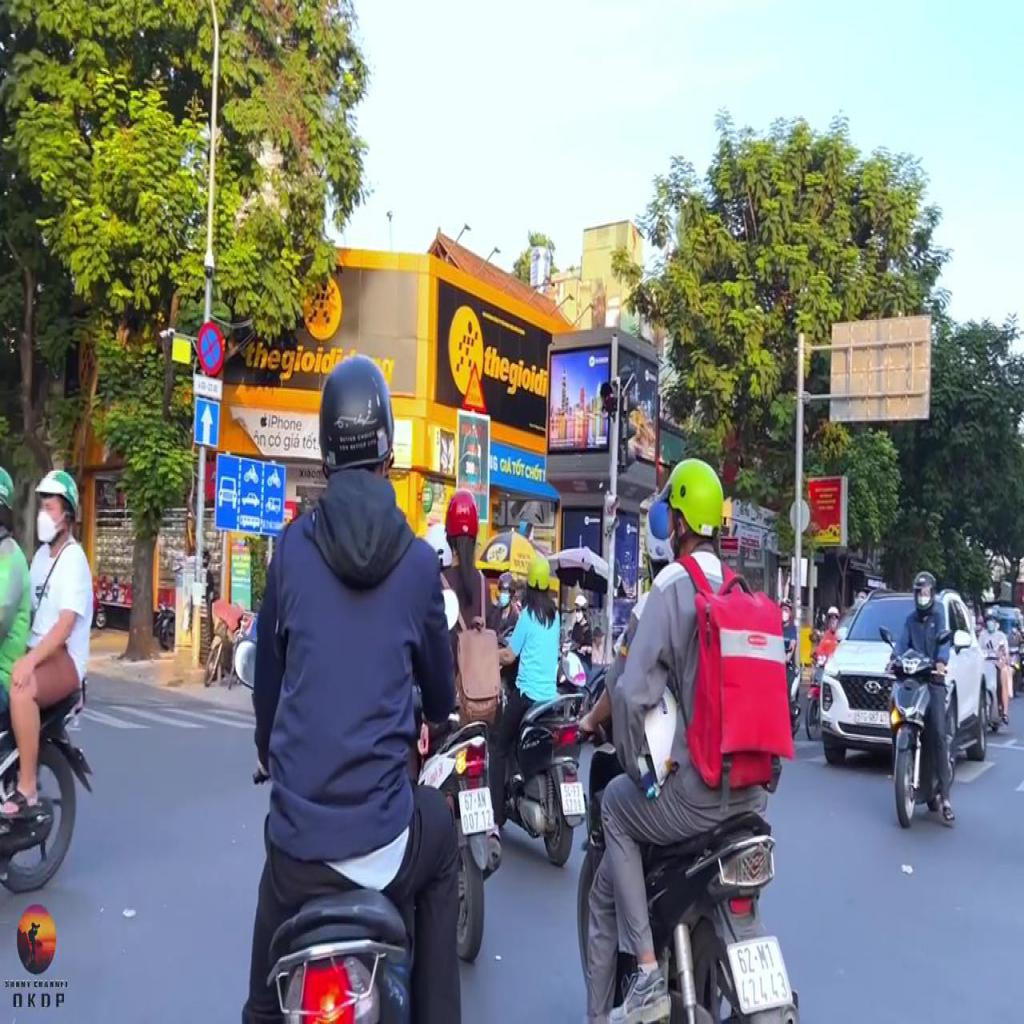cam_dung_xe_va_do_xe: (198, 324, 224, 374)
di_cham: (462, 362, 488, 412)
duong_mot_chieu: (195, 398, 219, 445)
khac: (194, 371, 222, 401)
lan_duong_cho_tung_xe_theo_vach_ke_duong: (216, 452, 286, 534)
